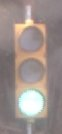Green: (11, 18, 48, 122)
